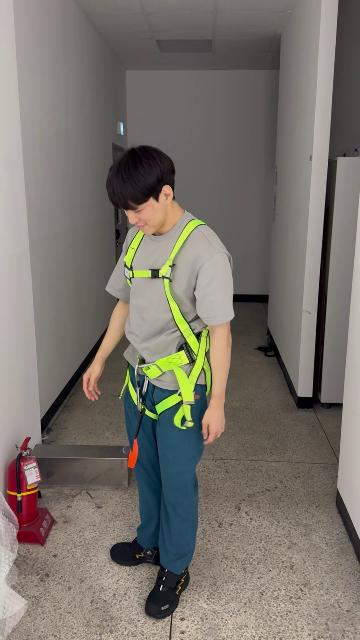helmet_not_worn: (106, 142, 178, 214)
shoe_worn: (145, 563, 190, 619), (110, 536, 160, 565)
vest_worn: (118, 219, 217, 421)
